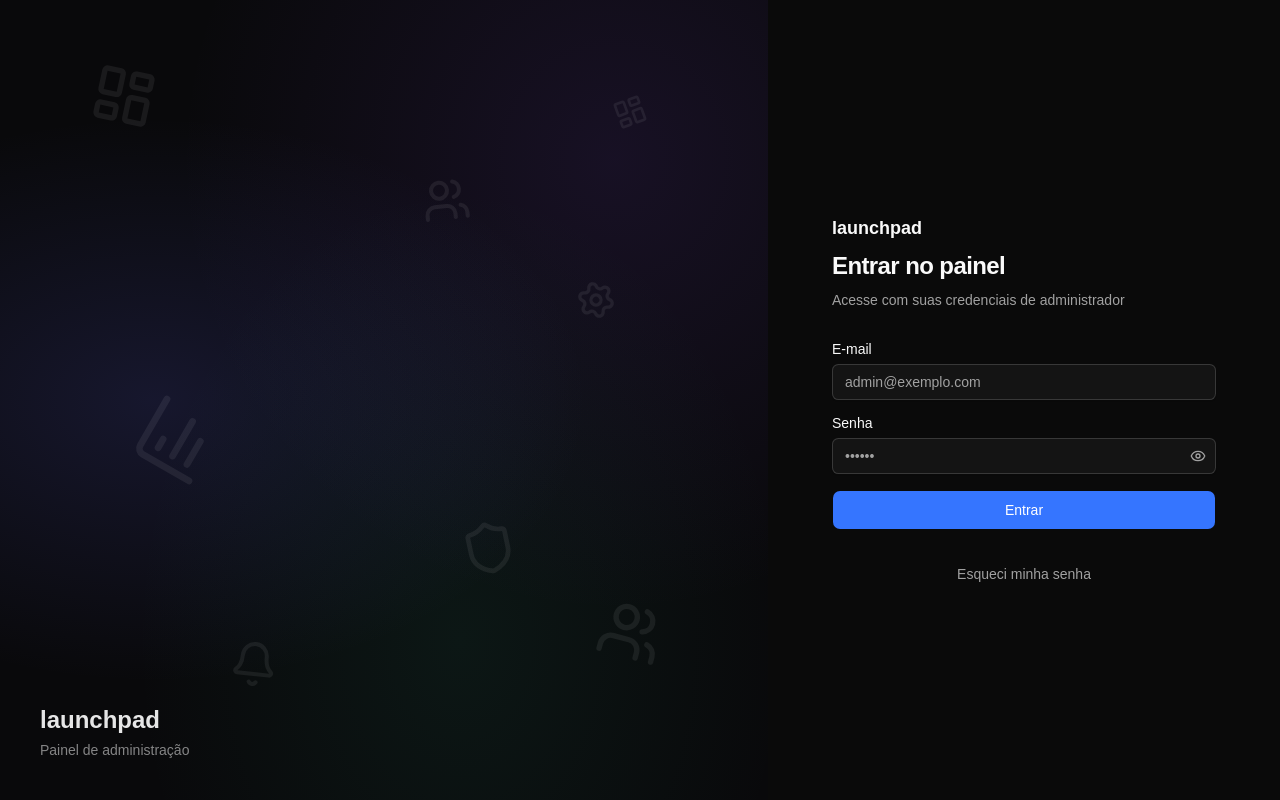
LoginForm — validação › exibe erro de senha curta
Type "admin@test.com" into the field labelled "E-mail".
click(1024, 382); type("admin@test.com")  # box [832, 364, 1216, 400]
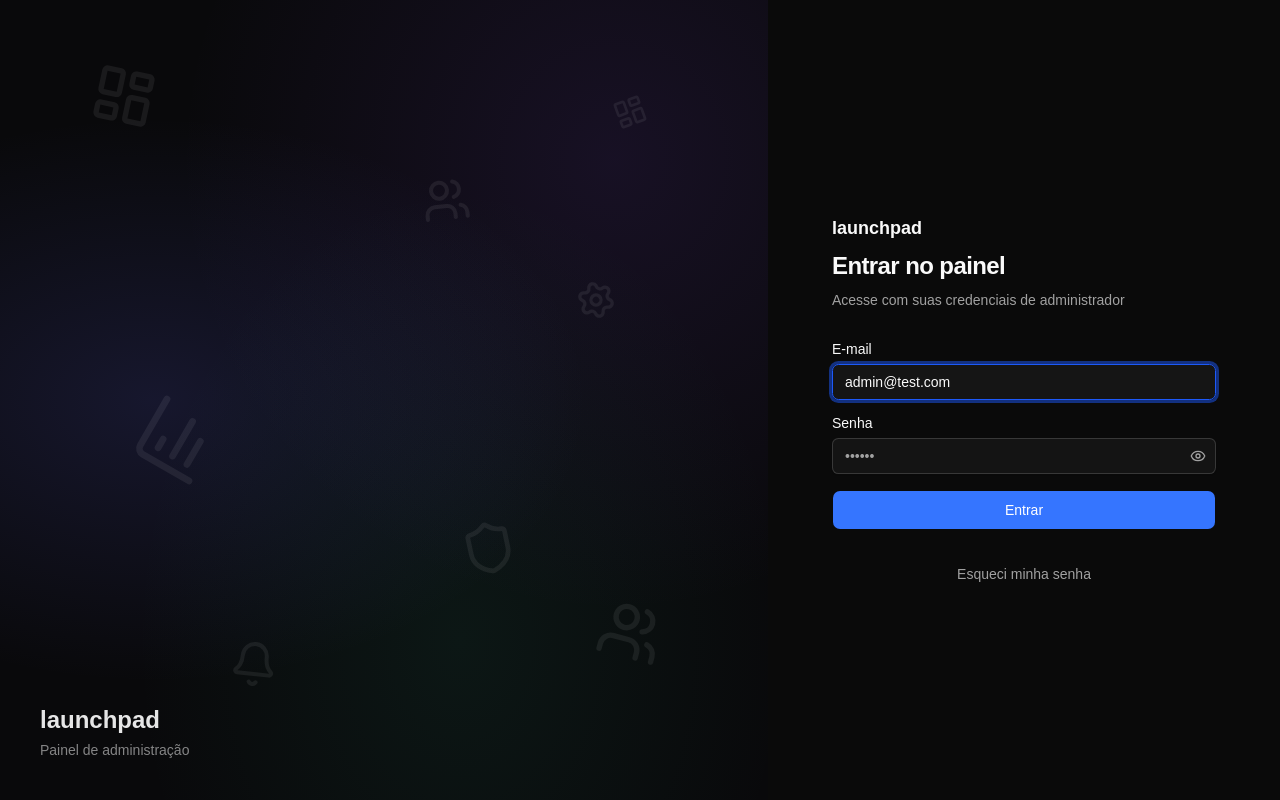
Type "123" into the password field labelled "Senha".
click(1024, 456); type("123")  # box [832, 438, 1216, 474]
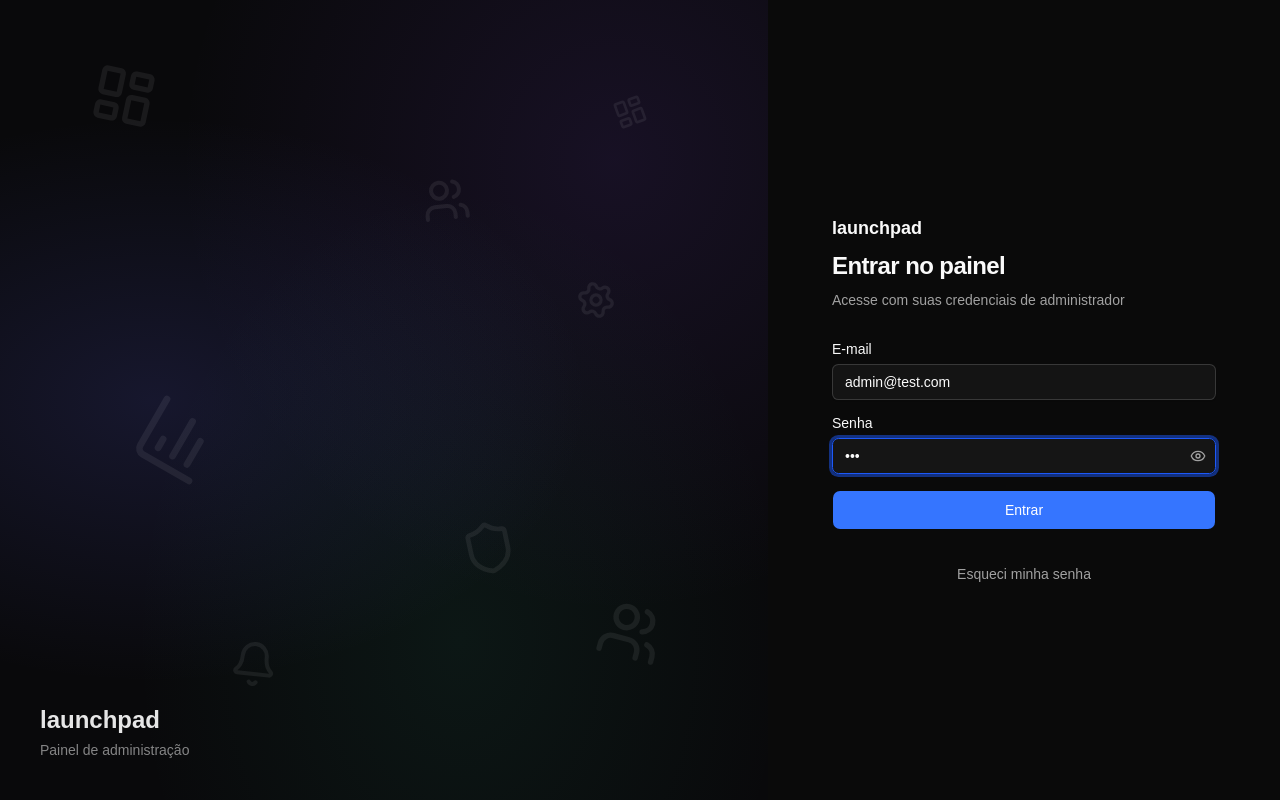
Click the button "Entrar".
click(1024, 510)  # box [832, 490, 1216, 530]
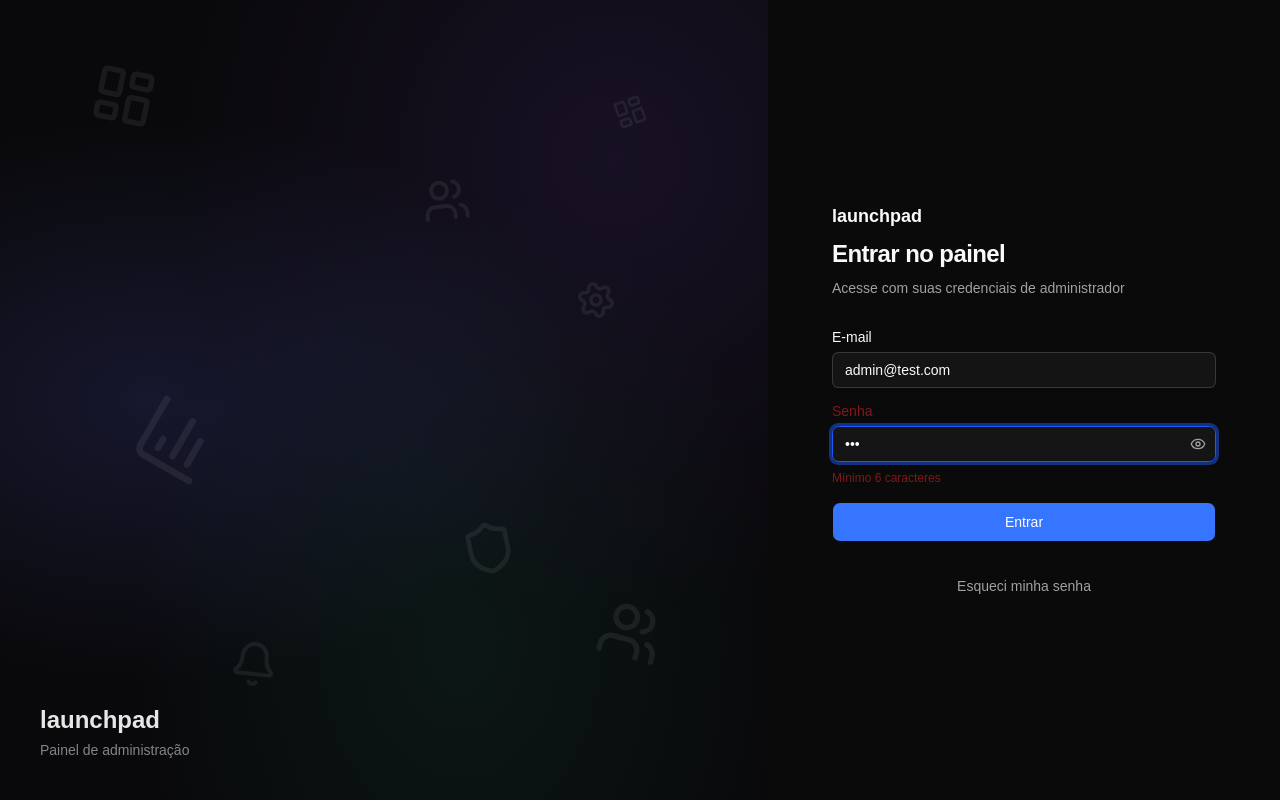
Expected: the text "Mínimo 6 caracteres" is shown, [832, 471, 941, 485]
